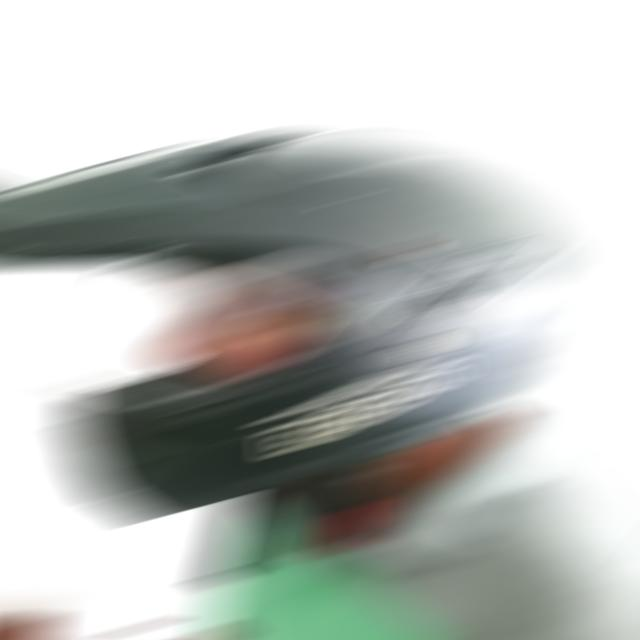With Helmet: (0, 136, 574, 515)
